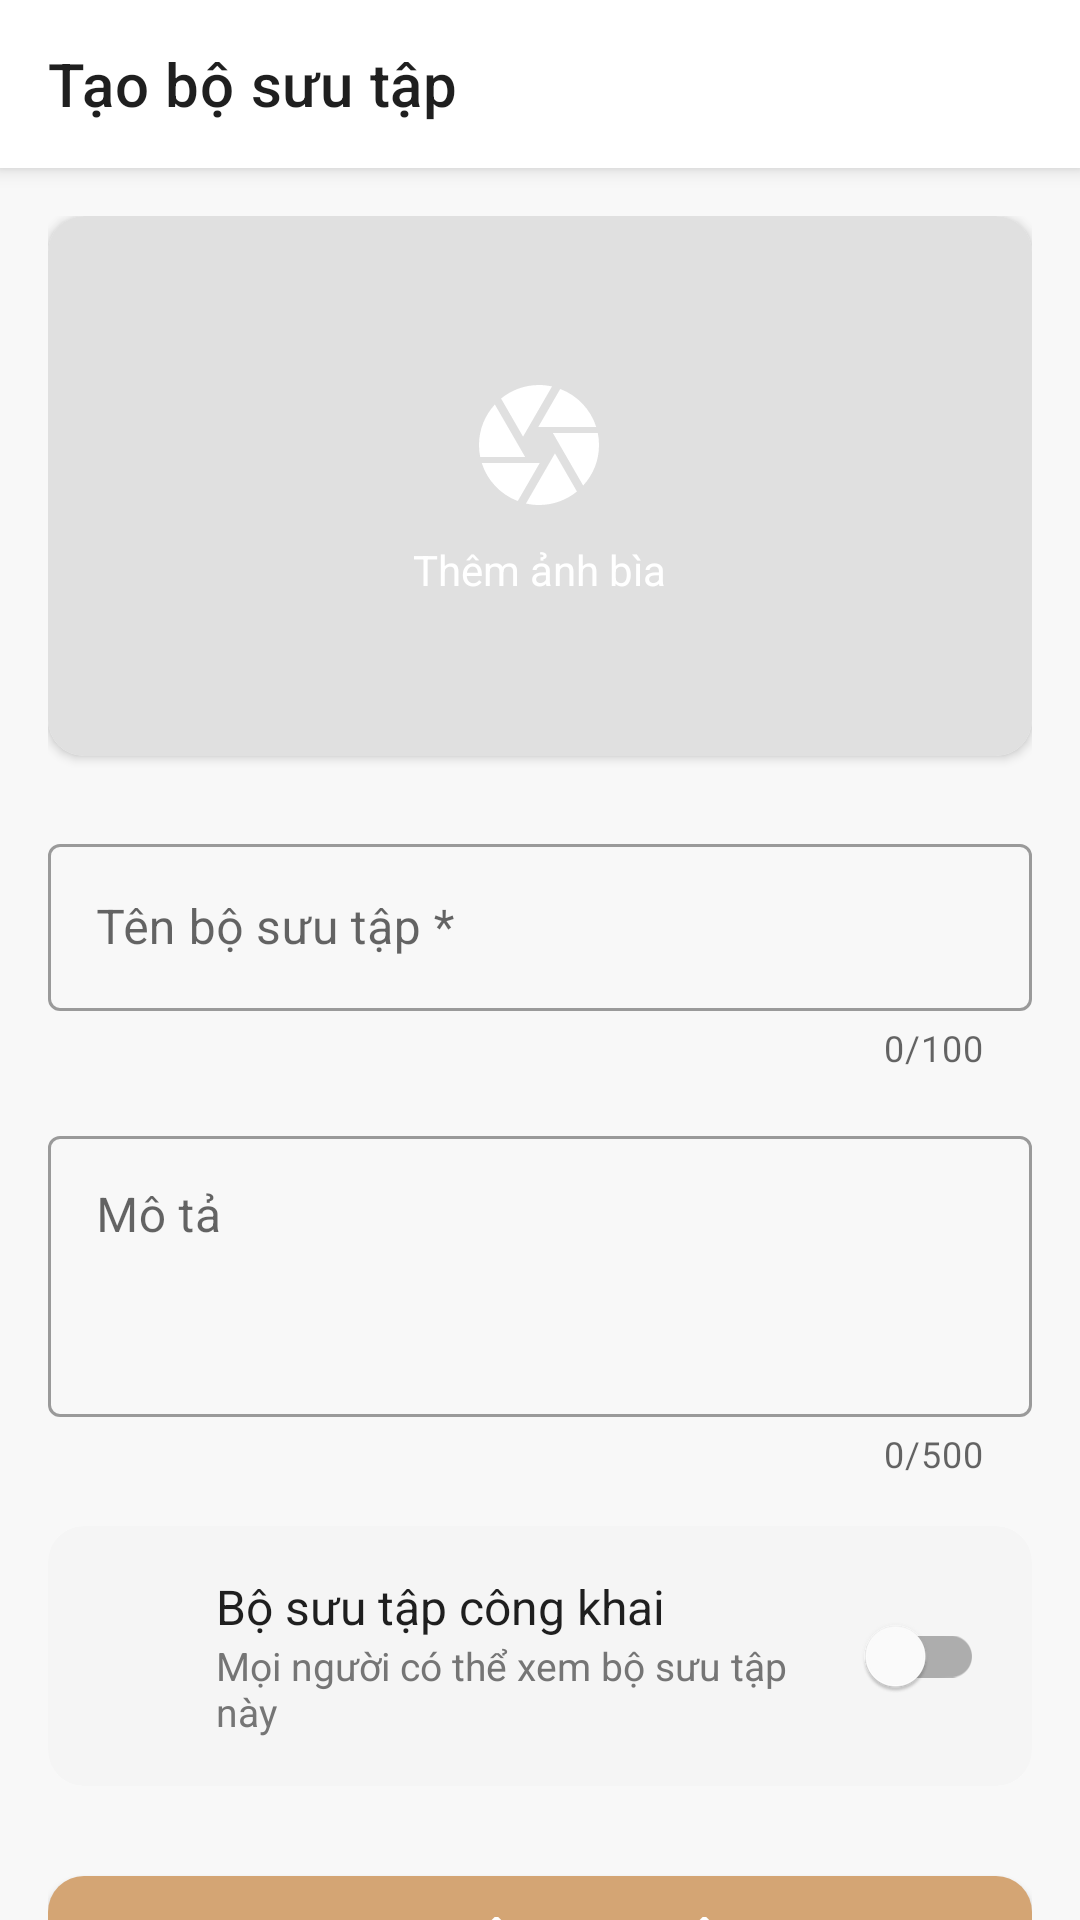

Screen size 1080w x 1920h. Icon name, then its center in pixels as point (x, y):
camera: point (539, 445)
